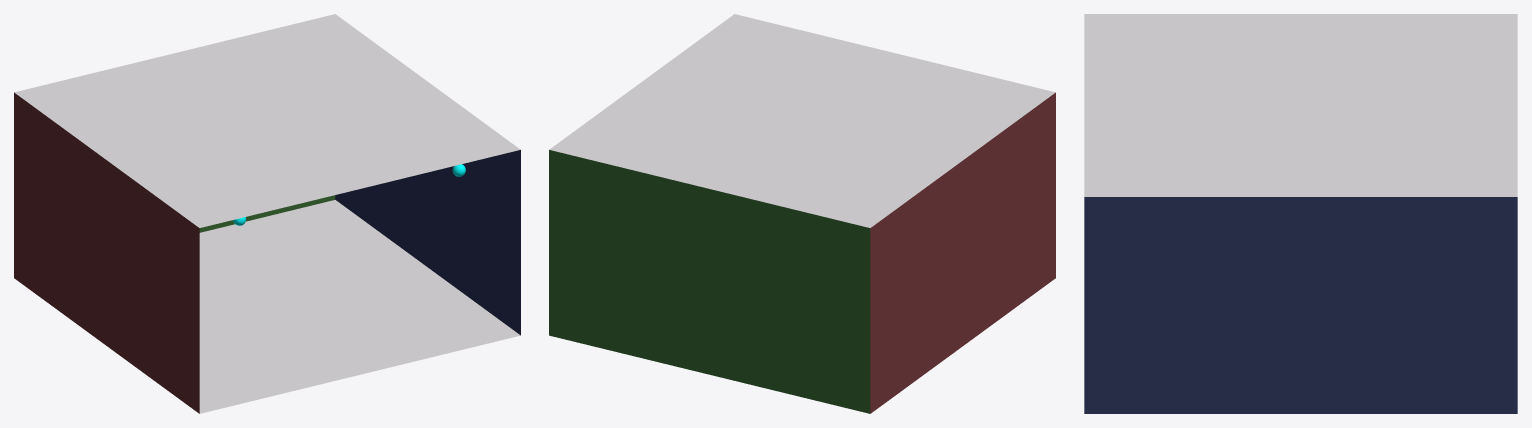
The picture shows the model from 3 angles, left to right: view 1: azimuth 30°, elevation 25°; view 2: azimuth 150°, elevation 25°; view 3: azimuth 270°, elevation 25°; orthographic projection. The views are drawn at different scales.
Parts seen in each view (by area): view 1: Plane; view 2: Plane; view 3: Plane.
Part boxes in pixels (<box>): Plane: <box>14,14,520,413</box>; Plane: <box>549,14,1055,413</box>; Plane: <box>1084,14,1517,413</box>.
Bounding box in the file's own units: 205 × 113 × 205.
